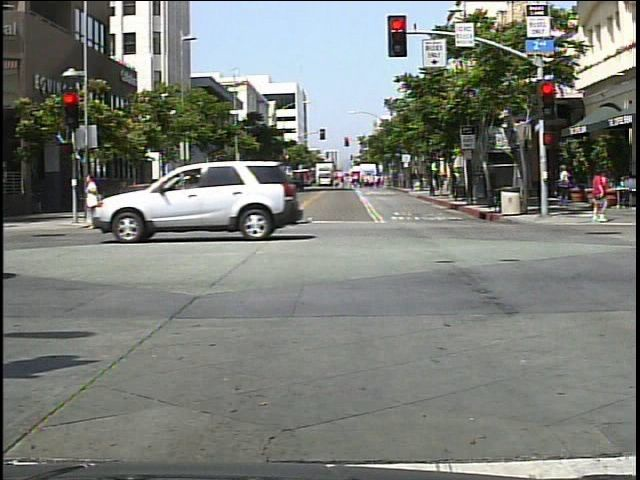person: (83, 172, 109, 237), (586, 167, 612, 225), (555, 161, 574, 212)
